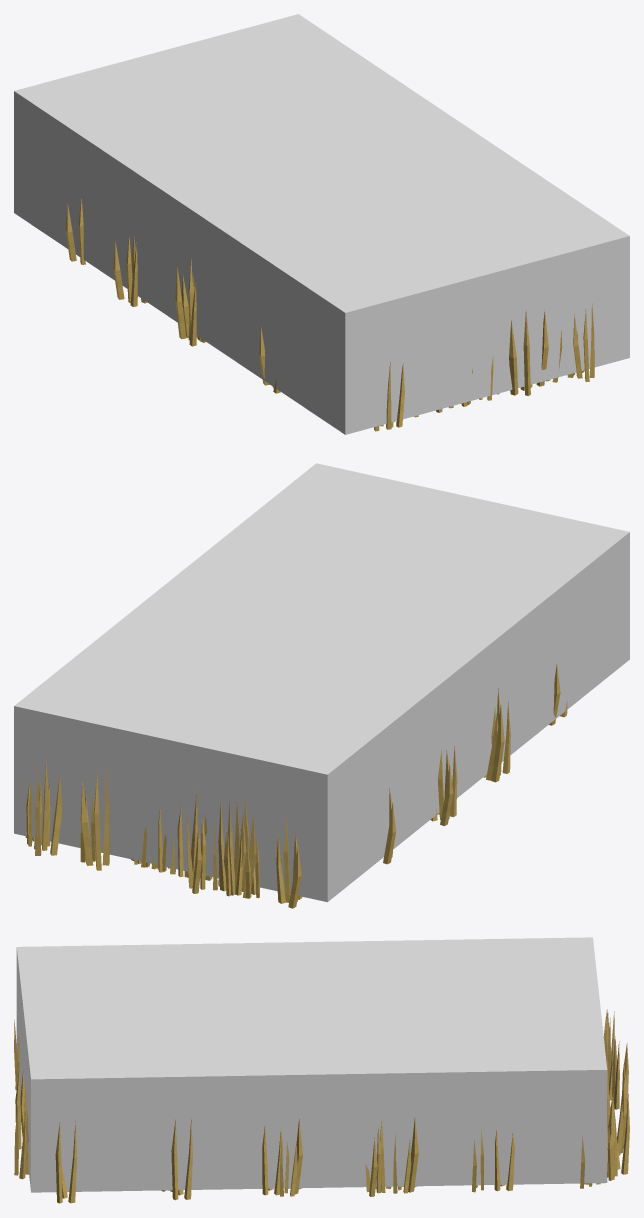
Rendered from Wheat.gltf.
3 renders of one model, top to bottom at view 1: azimuth 30°, elevation 25°; view 2: azimuth 150°, elevation 25°; view 3: azimuth 270°, elevation 25°, orthographic. The views are drawn at different scales.
Parts seen in each view (by area): view 1: boxWheat, Reed_normal.001 - copy.117, Reed_normal.001 - copy.161, Reed_normal.001 - copy.156, Reed_normal.001 - copy.112, Reed_normal.001 - copy.150, Reed_normal.001 - copy.101; view 2: boxWheat, Reed_normal.001 - copy.175, Reed_normal.001 - copy.188, Reed_normal.001 - copy.171, Reed_normal.001 - copy.143, Reed_normal.001 - copy.104, Reed_normal.001 - copy.048, Reed_normal.001 - copy.156; view 3: boxWheat, Reed_normal.001 - copy.094, Reed_normal.001 - copy.160, Reed_normal.001 - copy.161, Reed_normal.001 - copy.188, Reed_normal.001 - copy.104, Reed_normal.001 - copy.109, Reed_normal.001 - copy.128, Reed_normal.001 - copy.092, Reed_normal.001 - copy.057, Reed_normal.001 - copy.175, Reed_normal.001 - copy.117 (+2 smaller).
Boxes of the visible parts, x1,y1,x2,y2 form: boxWheat: (14, 14, 629, 434); Reed_normal.001 - copy.117: (509, 309, 530, 395); Reed_normal.001 - copy.161: (573, 303, 594, 382); Reed_normal.001 - copy.156: (175, 257, 197, 339); Reed_normal.001 - copy.112: (113, 236, 137, 303); Reed_normal.001 - copy.150: (65, 197, 85, 264); Reed_normal.001 - copy.101: (386, 361, 404, 429); boxWheat: (14, 463, 629, 902); Reed_normal.001 - copy.175: (80, 763, 109, 870); Reed_normal.001 - copy.188: (35, 760, 61, 855); Reed_normal.001 - copy.171: (218, 800, 246, 894); Reed_normal.001 - copy.143: (227, 799, 256, 898); Reed_normal.001 - copy.104: (186, 812, 205, 893); Reed_normal.001 - copy.048: (276, 833, 301, 908); Reed_normal.001 - copy.156: (483, 688, 504, 782); boxWheat: (16, 937, 607, 1192); Reed_normal.001 - copy.094: (55, 1121, 77, 1203); Reed_normal.001 - copy.160: (171, 1118, 192, 1200); Reed_normal.001 - copy.161: (14, 1106, 28, 1179); Reed_normal.001 - copy.188: (608, 1093, 629, 1174); Reed_normal.001 - copy.104: (612, 1036, 628, 1109); Reed_normal.001 - copy.109: (365, 1125, 381, 1196); Reed_normal.001 - copy.128: (262, 1125, 282, 1195); Reed_normal.001 - copy.092: (280, 1139, 297, 1196); Reed_normal.001 - copy.057: (494, 1129, 514, 1191); Reed_normal.001 - copy.175: (607, 1061, 627, 1153); Reed_normal.001 - copy.117: (15, 1068, 24, 1149).
Bounding box in the file's own units: 5.94 × 2.16 × 10.16.
Materials: 1 (1 with a texture image).
